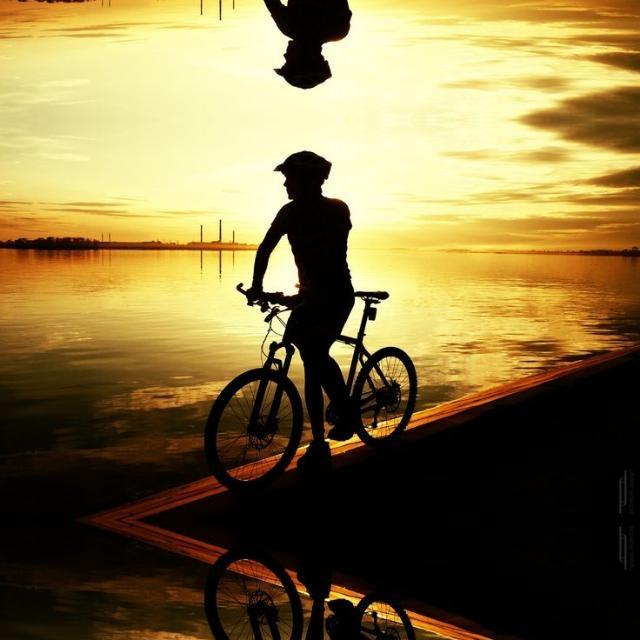obstacle: (198, 266, 444, 480), (198, 559, 443, 640)
